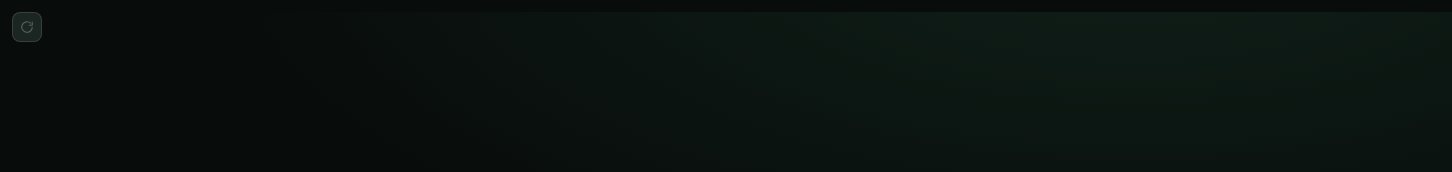
Scenario: RefreshButton › while a rate limit holds: a click loads nothing but says how long is left; it comes back by itself
Later steps or results of the test are not shown.
Click the button named "Refresh Monobank". click: {"x": 27, "y": 27}
box: [12,12,42,42]
Wait 4000 ms
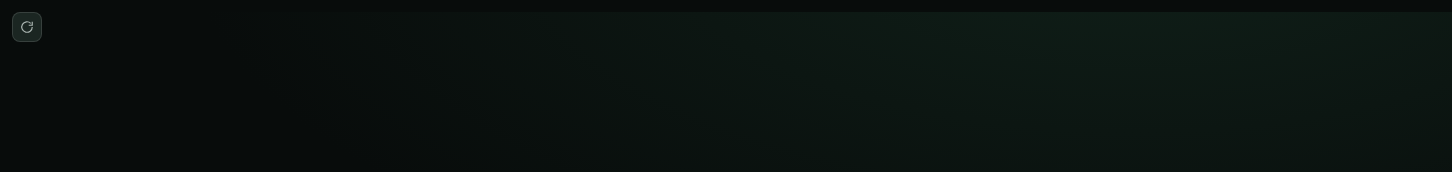
Expected: the button named "Refresh Monobank" does not have attribute aria-disabled, [12,12,42,42]
